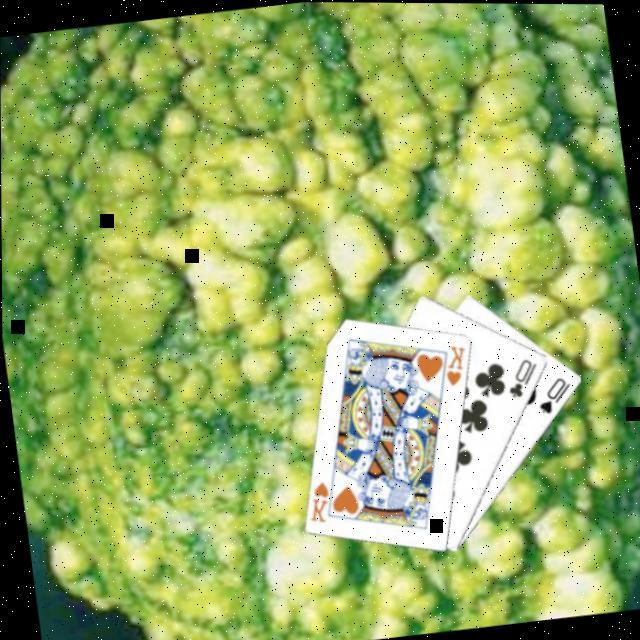10C: (502, 352, 545, 399)
10S: (533, 369, 578, 416)
KH: (304, 475, 337, 525), (440, 338, 474, 386)
